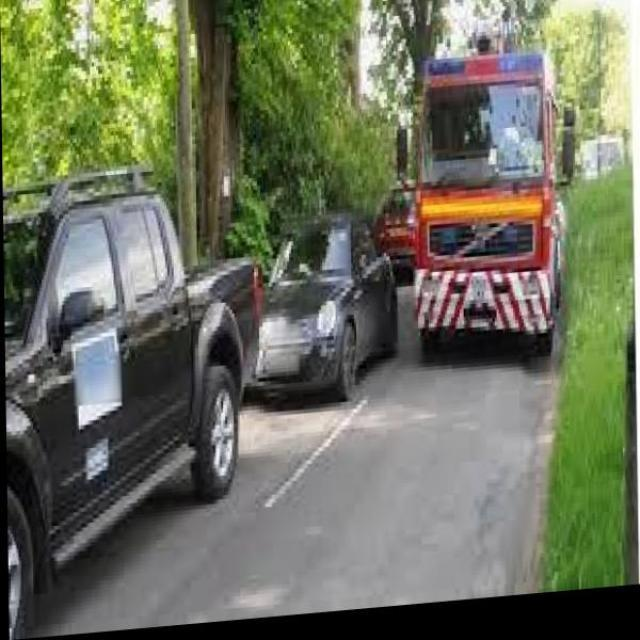emergency: (381, 24, 575, 356)
